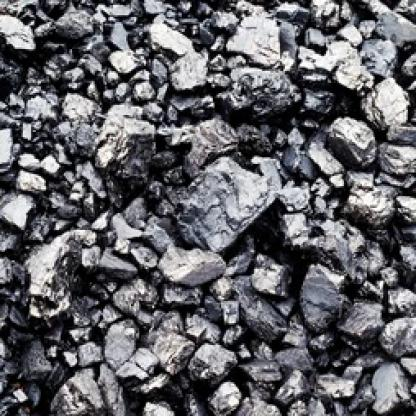Sedimentary_coal: (175, 154, 290, 245), (39, 227, 105, 284), (301, 257, 352, 326), (318, 44, 383, 96), (323, 110, 383, 166), (152, 242, 226, 284), (229, 14, 282, 71), (368, 82, 413, 140), (185, 340, 246, 379), (342, 186, 392, 222), (115, 316, 144, 362), (156, 326, 186, 369)
